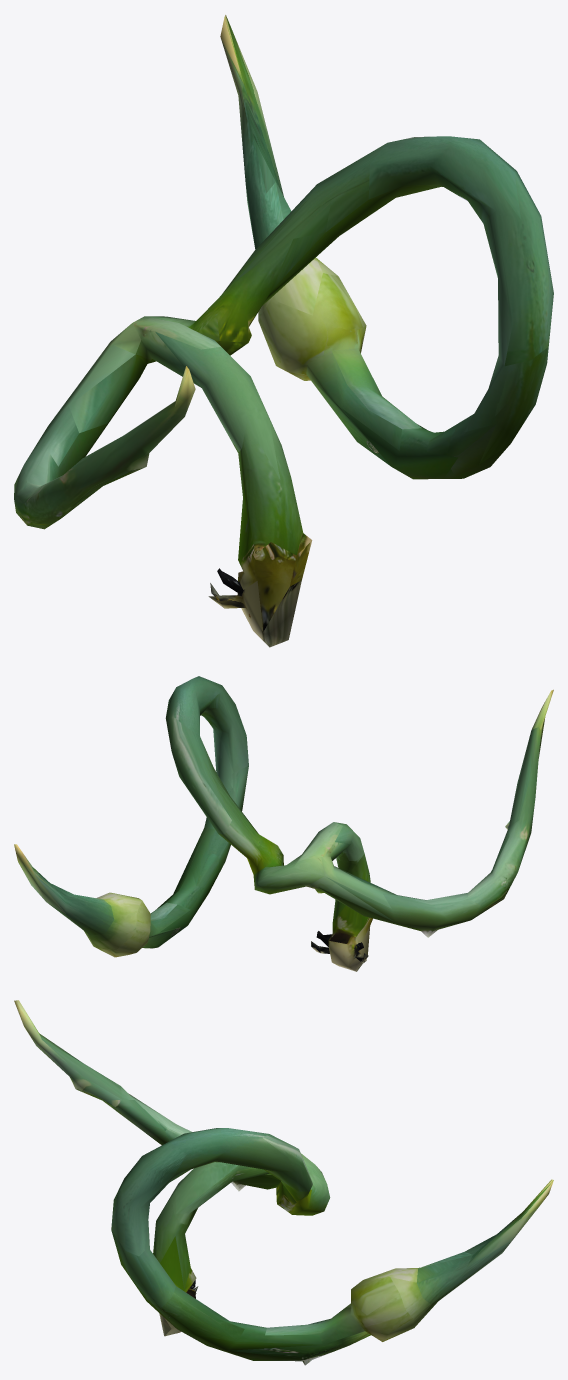
The model's file is garlic root new.fbx.
3 renders of one model, top to bottom at view 1: azimuth 30°, elevation 25°; view 2: azimuth 150°, elevation 25°; view 3: azimuth 270°, elevation 25°, orthographic. The views are drawn at different scales.
Visible parts, largest first — view 1: meshes[0]; view 2: meshes[0]; view 3: meshes[0].
Part boxes in pixels (x1,y1,x2,y2): meshes[0]: (14, 15, 553, 647); meshes[0]: (14, 676, 553, 971); meshes[0]: (14, 1000, 553, 1365).
Bounding box in the file's own units: 40.07 × 32.02 × 56.28.
1 material, 1 textured.
